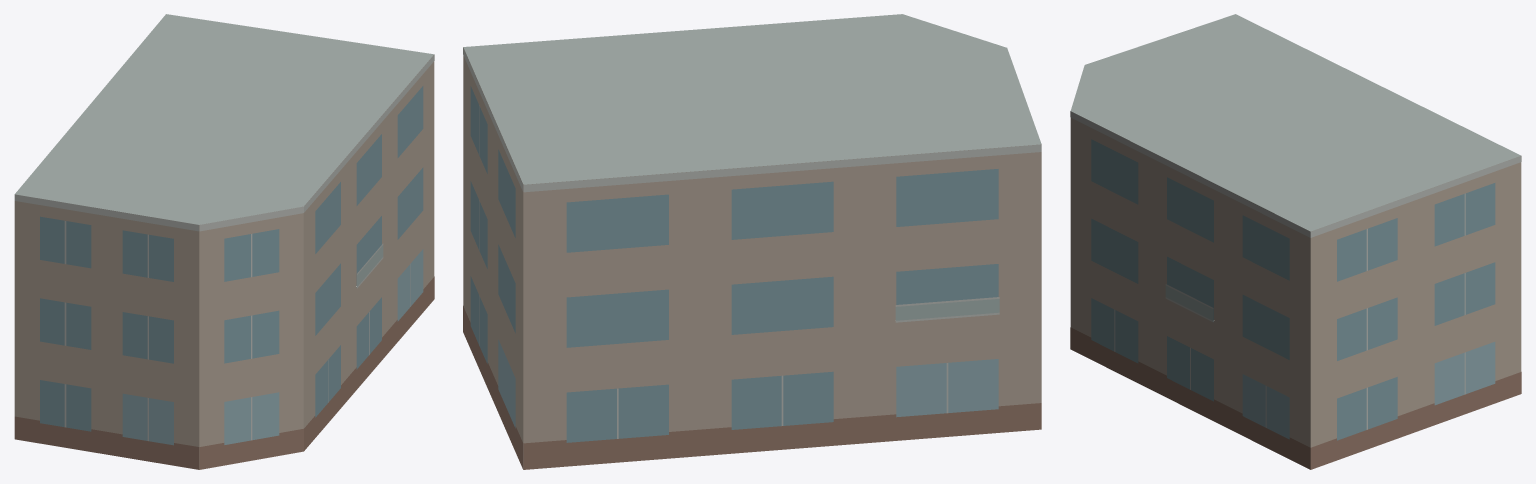
File: survey-upis-32777104.glb
3 renders of one model, left to right at view 1: azimuth 30°, elevation 25°; view 2: azimuth 150°, elevation 25°; view 3: azimuth 270°, elevation 25°, orthographic. The views are drawn at different scales.
Visible parts, largest first — view 1: survey-upis-32777104.tmp; view 2: survey-upis-32777104.tmp; view 3: survey-upis-32777104.tmp.
Part boxes in pixels (box(x1,y1,x2,y2)): survey-upis-32777104.tmp: box(14, 14, 434, 469); survey-upis-32777104.tmp: box(463, 14, 1041, 469); survey-upis-32777104.tmp: box(1070, 14, 1521, 469).
Bounding box in the file's own units: 17.93 × 9.15 × 15.7.
